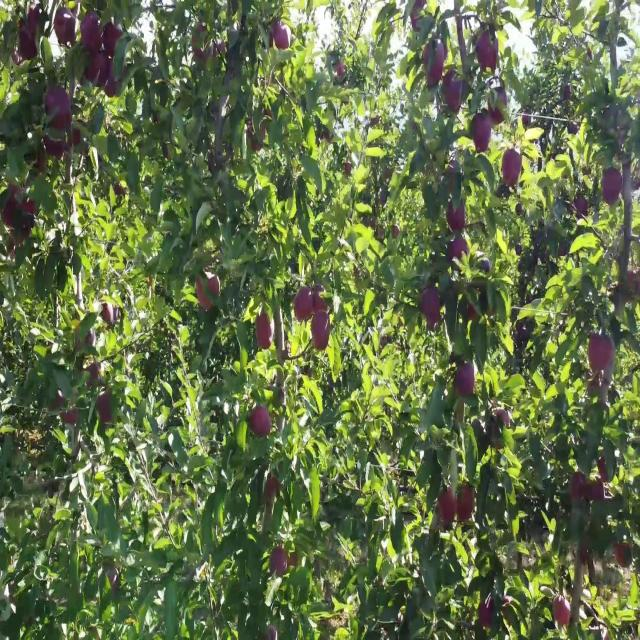apple: (44, 85, 72, 133), (588, 334, 616, 373), (424, 42, 448, 85), (248, 113, 273, 153), (56, 7, 78, 48), (476, 35, 500, 71), (196, 277, 220, 313), (420, 284, 441, 325), (472, 113, 492, 155), (80, 14, 102, 52), (456, 483, 476, 524), (312, 312, 332, 352), (444, 71, 462, 114), (20, 21, 38, 64), (504, 149, 523, 188), (104, 21, 123, 59), (252, 405, 272, 441), (456, 362, 476, 398), (488, 92, 508, 128), (436, 490, 456, 526), (84, 56, 108, 85), (8, 227, 32, 256), (448, 199, 467, 235), (604, 170, 623, 206), (592, 462, 609, 501), (192, 28, 210, 64), (256, 312, 273, 348), (44, 135, 67, 160), (596, 455, 609, 498), (272, 21, 291, 50), (96, 391, 112, 425), (24, 7, 42, 37), (264, 476, 282, 505), (296, 291, 312, 322), (556, 597, 572, 628), (480, 597, 494, 631), (96, 56, 111, 87), (272, 547, 288, 576), (616, 540, 632, 569), (448, 241, 468, 263), (84, 56, 98, 85), (572, 476, 587, 503), (312, 291, 328, 315), (88, 362, 101, 389), (572, 199, 588, 220), (104, 305, 119, 327), (4, 199, 15, 229), (412, 7, 424, 34), (108, 78, 121, 100), (448, 163, 457, 194), (288, 547, 300, 569), (24, 199, 37, 219), (212, 42, 227, 59), (496, 412, 511, 427), (64, 412, 79, 427), (72, 127, 81, 149), (56, 391, 65, 411), (468, 305, 477, 322), (116, 184, 126, 199), (88, 334, 96, 348)
